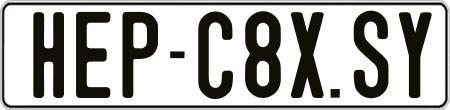8: (242, 9, 284, 102)
C: (195, 12, 233, 101)
E: (75, 12, 114, 103)
H: (33, 9, 68, 96)
P: (121, 11, 162, 97)
S: (354, 10, 390, 102)
X: (288, 11, 327, 97)
Y: (396, 12, 434, 100)
